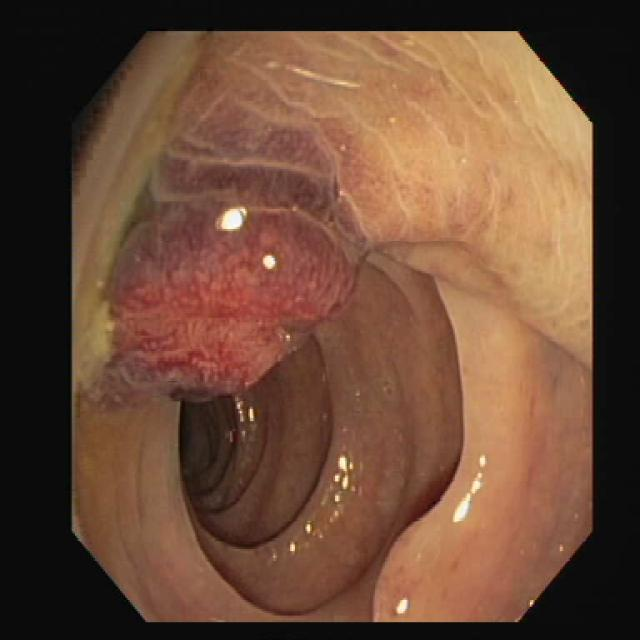tumor: (113, 133, 358, 396), (373, 518, 423, 620)
